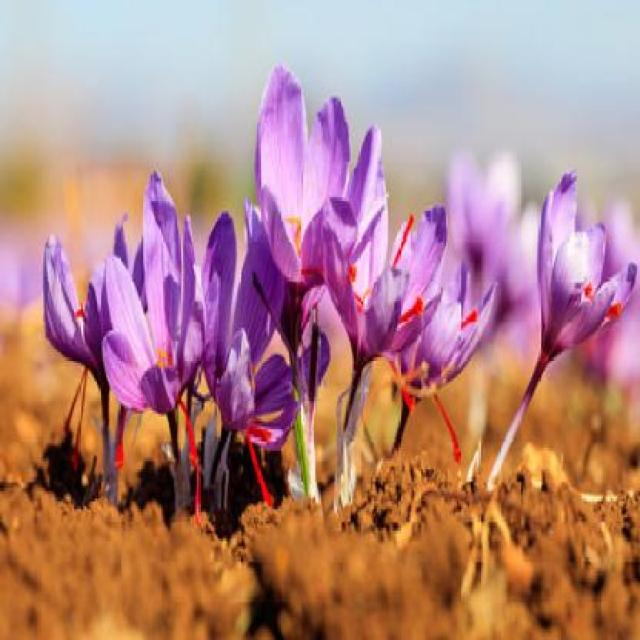Flower: (327, 118, 450, 371), (244, 66, 354, 322), (199, 205, 296, 463), (532, 161, 640, 377), (41, 194, 142, 403), (105, 211, 198, 411)
stigma: (164, 390, 214, 525), (421, 384, 469, 468), (235, 420, 278, 508), (384, 204, 420, 276), (393, 281, 431, 336)
